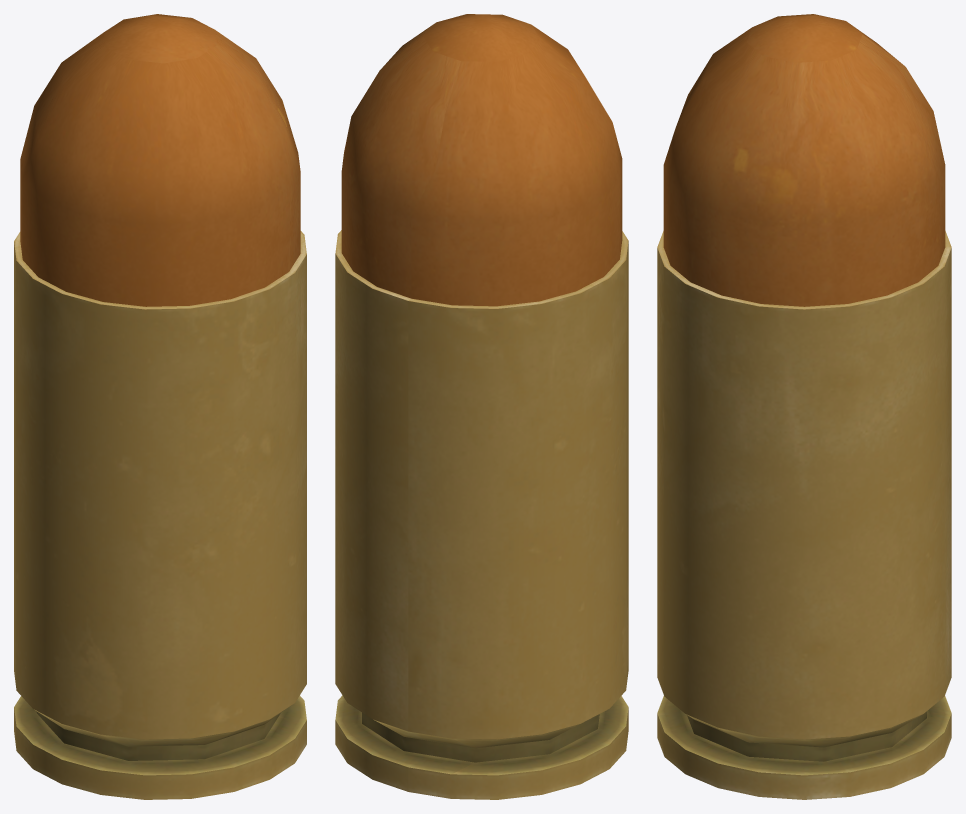
The model's file is SM_cal9mm_Full.glb.
3 views of the same model, side by side, from view 1: azimuth 30°, elevation 25°; view 2: azimuth 150°, elevation 25°; view 3: azimuth 270°, elevation 25° (orthographic).
Parts seen in each view (by area): view 1: SM_cal9mm_Full; view 2: SM_cal9mm_Full; view 3: SM_cal9mm_Full.
Part boxes in pixels (left/top/right/bottom): SM_cal9mm_Full: left=14, top=14, right=306, bottom=799; SM_cal9mm_Full: left=335, top=14, right=628, bottom=799; SM_cal9mm_Full: left=657, top=14, right=951, bottom=799.
Bounding box in the file's own units: 0.018 × 0.0482 × 0.018.
Materials: 1 (1 with a texture image).
